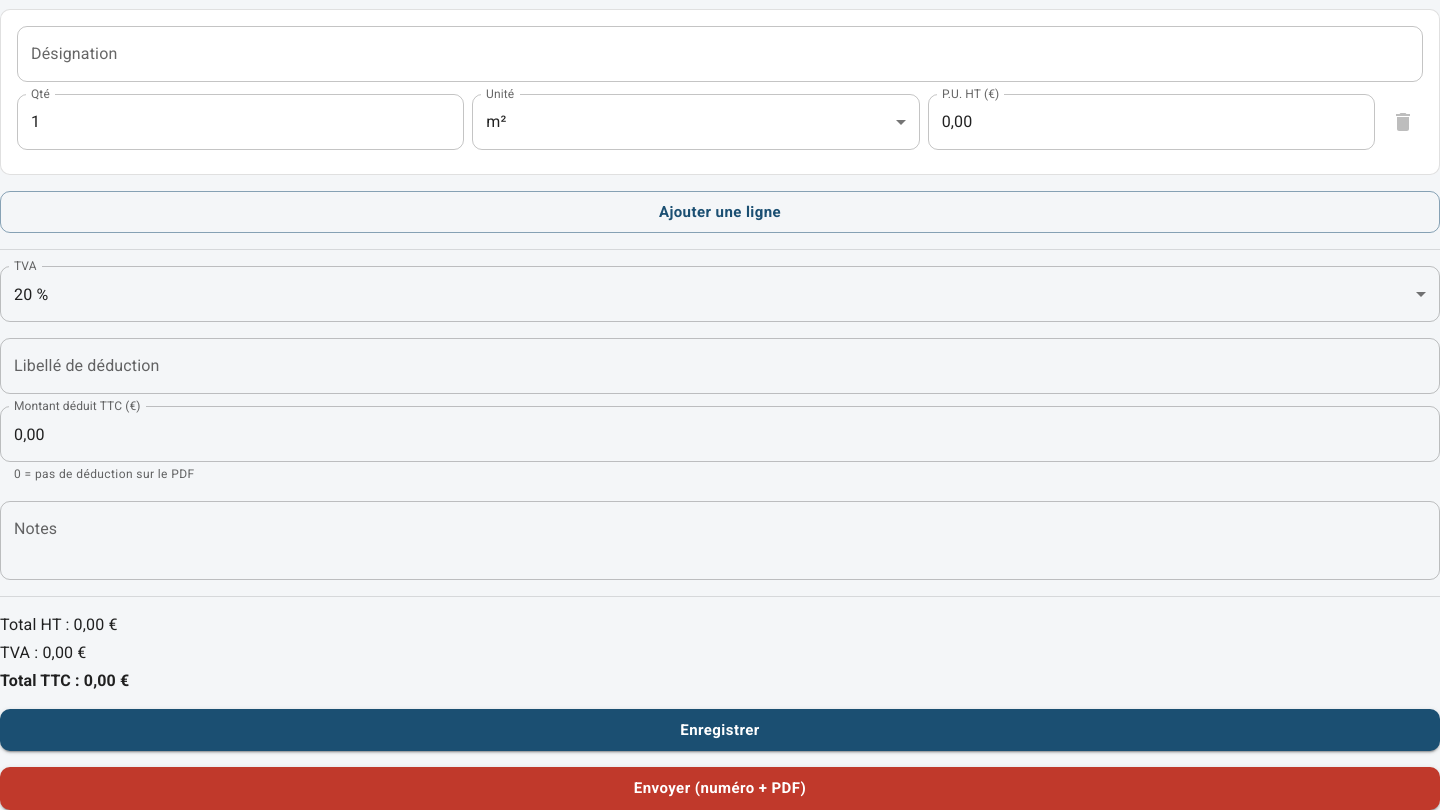
Test: DocumentEditPage › affiche déduction et reste à payer sur une facture
(page scrolled)
Expected: the field labelled "Libellé de déduction" is shown, [0,338,1439,394]
Replace the text in the field labelled "Montant déduit TTC (€)" with "100,00": (720, 434) [0,406,1439,462]
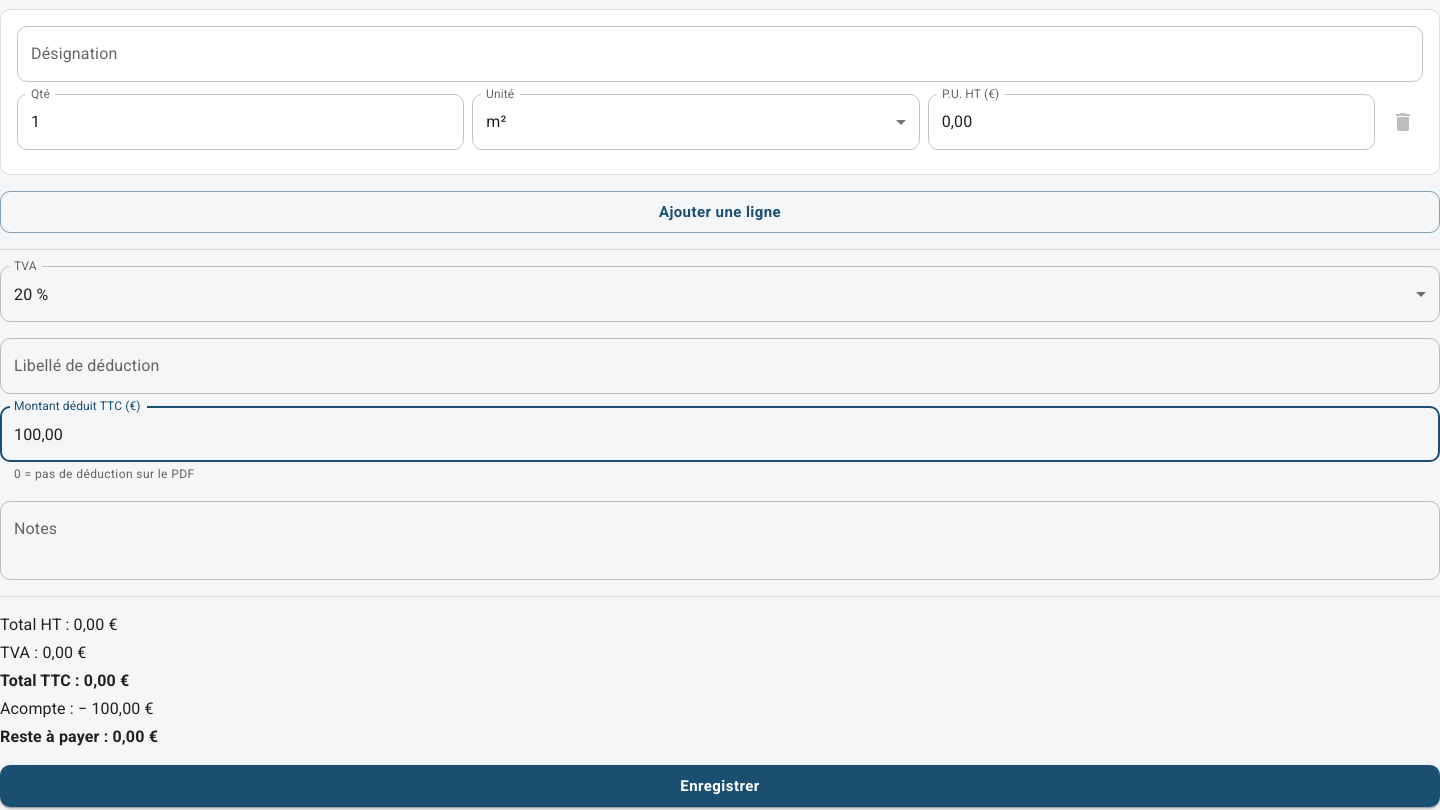
Expected: the text "Reste à payer : 0,00 €" is shown, [0,727,158,746]
